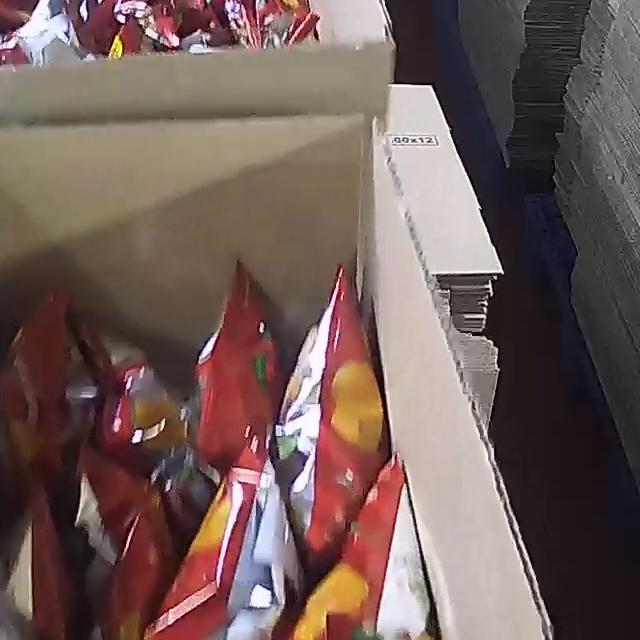masala: (0, 255, 499, 640), (0, 0, 332, 57)
